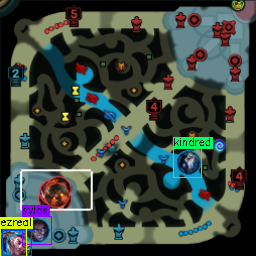ezreal: (1, 230, 21, 253)
kindred: (176, 150, 201, 175)
missfortune: (49, 177, 70, 200)
nautilus: (45, 184, 68, 206)
rakan: (7, 234, 31, 256)
sylas: (26, 218, 49, 241)
